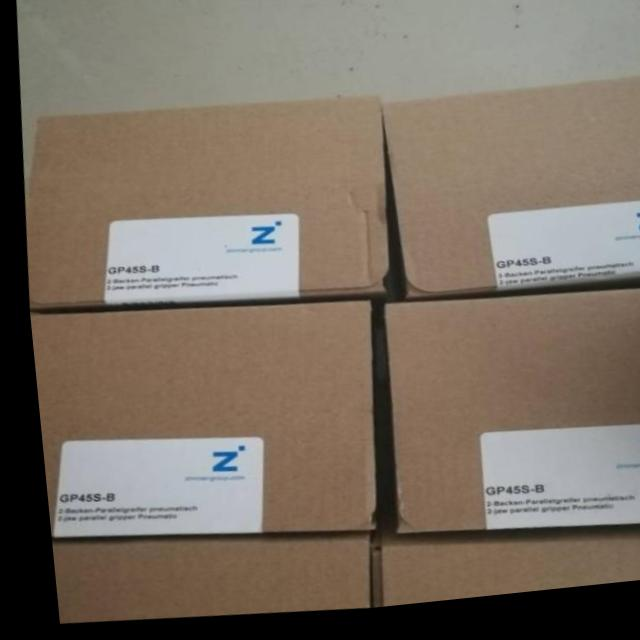box: (25, 308, 365, 537), (22, 103, 383, 309), (379, 302, 640, 540), (378, 89, 640, 307), (41, 542, 358, 623), (358, 541, 640, 614)
